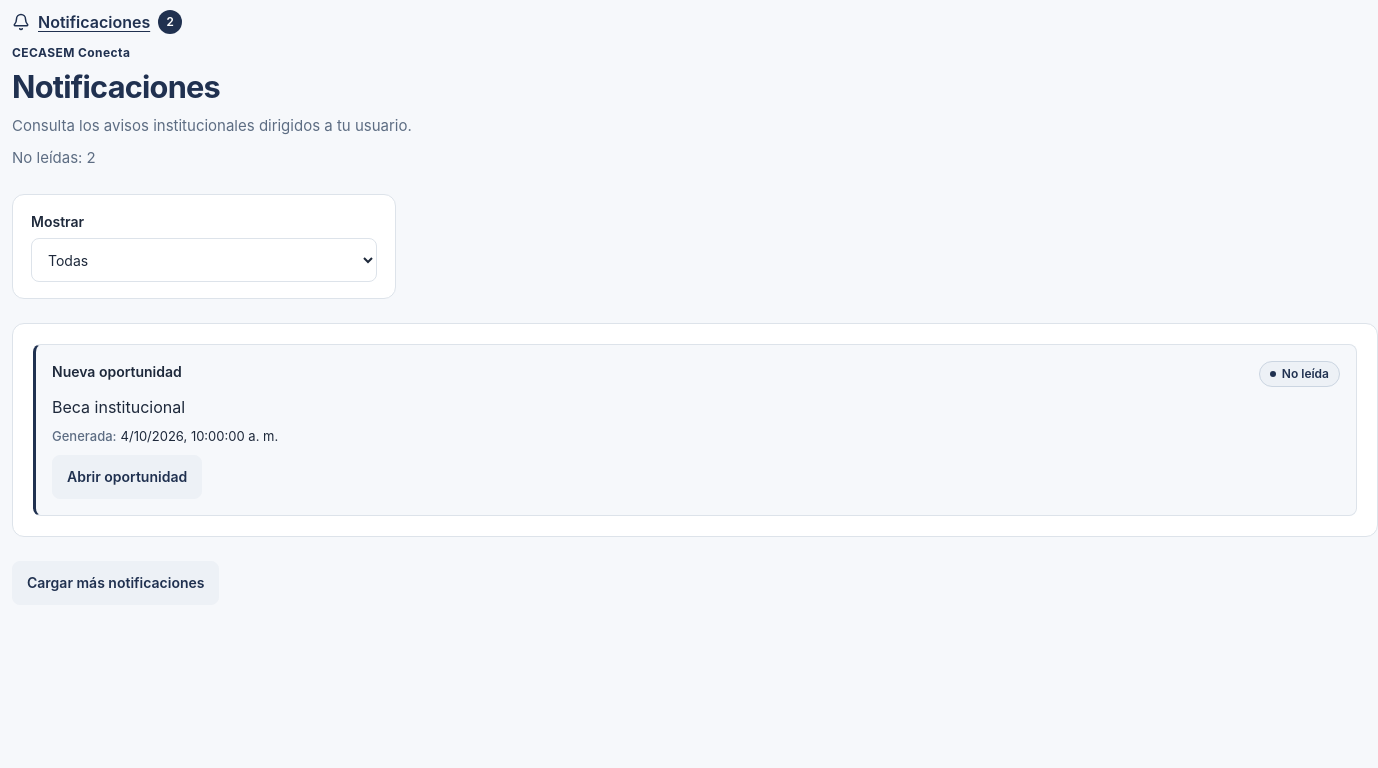
Test: Notificaciones propias › pagina por cursor sin duplicar filas
Click the button "Cargar más notificaciones" at (116, 583), box [12,561,220,605]
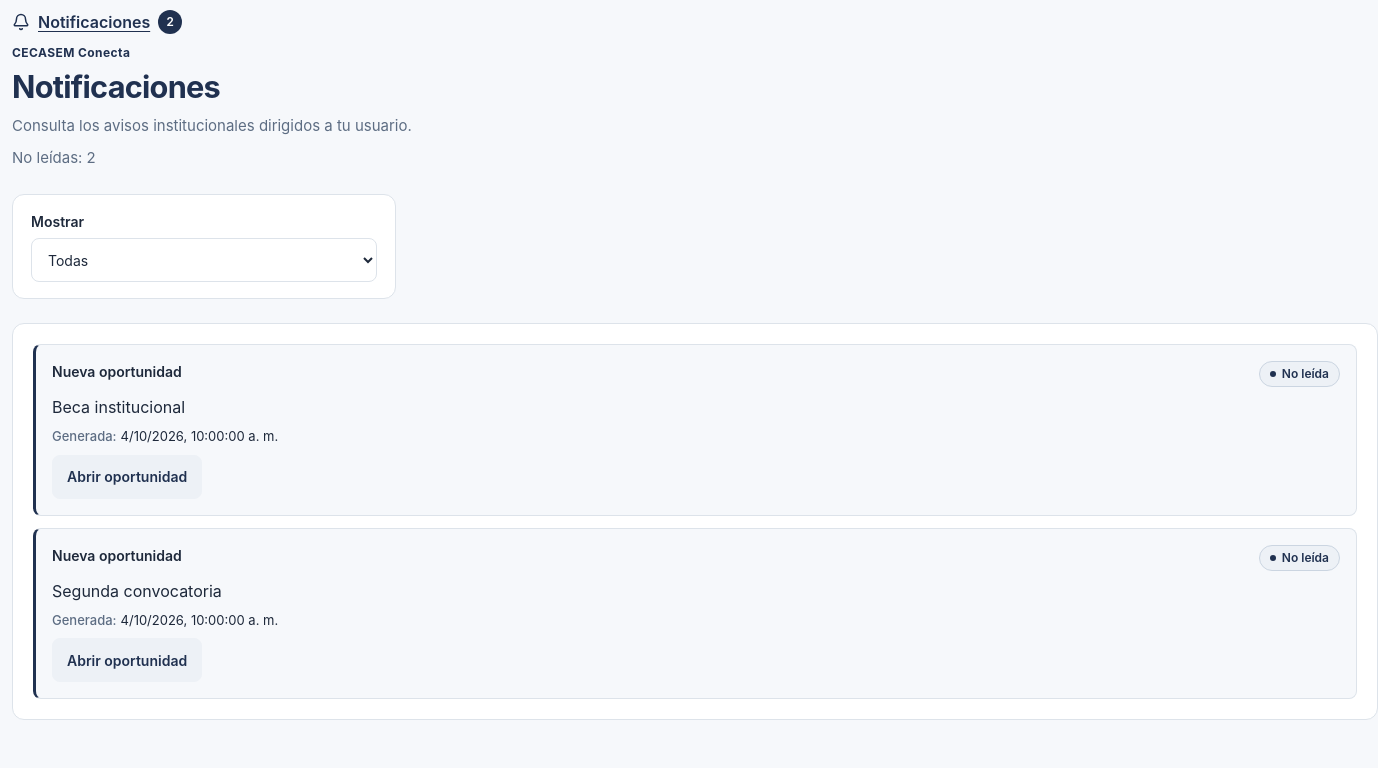
Check: the text "Beca institucional" is shown once, box [52,397,185,417]
Check: the text "Segunda convocatoria" is shown, box [52,581,222,601]
